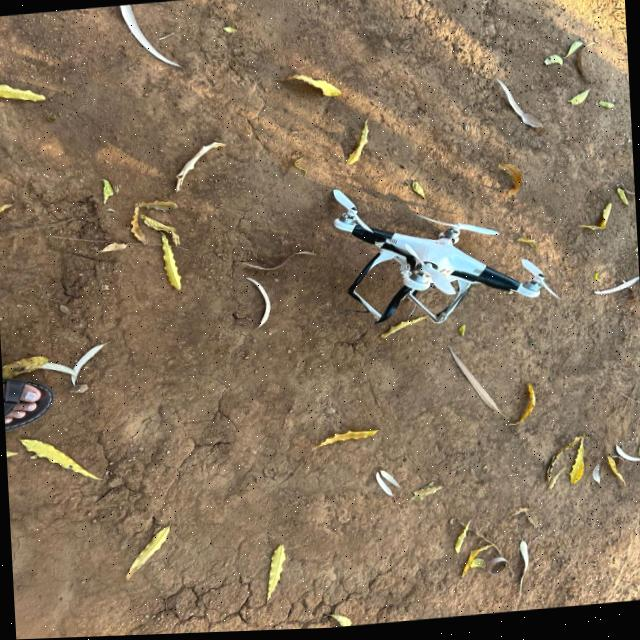drone: (327, 180, 565, 336)
